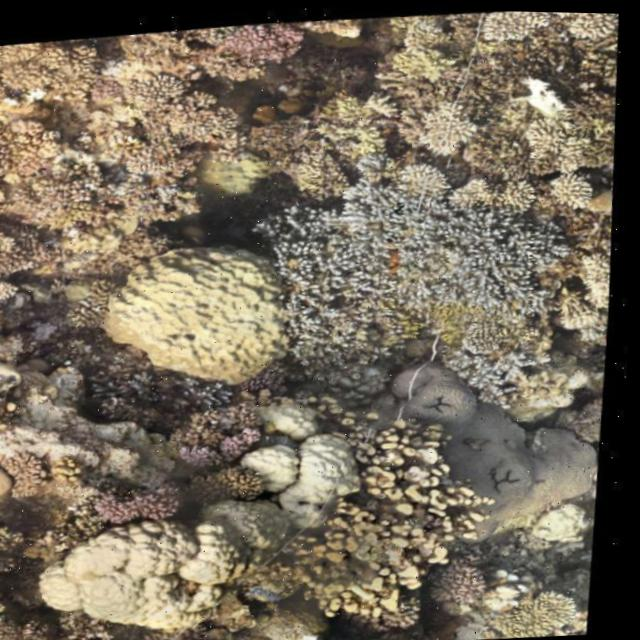Bleached Coral: (246, 146, 584, 369)
Healthy Coral: (0, 8, 304, 228), (157, 400, 260, 476), (44, 485, 185, 527), (351, 595, 448, 633), (426, 559, 488, 608)
